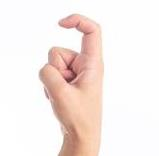anticlockwise: (36, 12, 108, 134)
